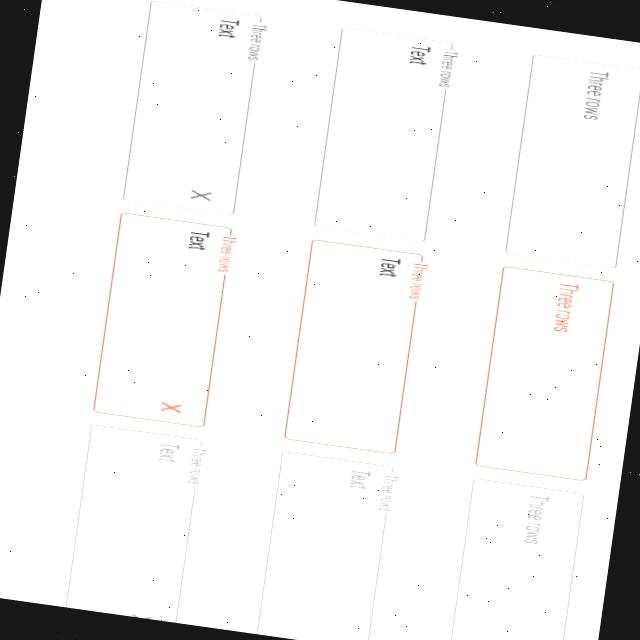VTextarea: (89, 210, 244, 430), (280, 236, 434, 456), (118, 0, 271, 217), (310, 24, 460, 243), (471, 263, 618, 482), (64, 422, 214, 625), (502, 51, 640, 269), (252, 448, 403, 640), (444, 475, 588, 640)
